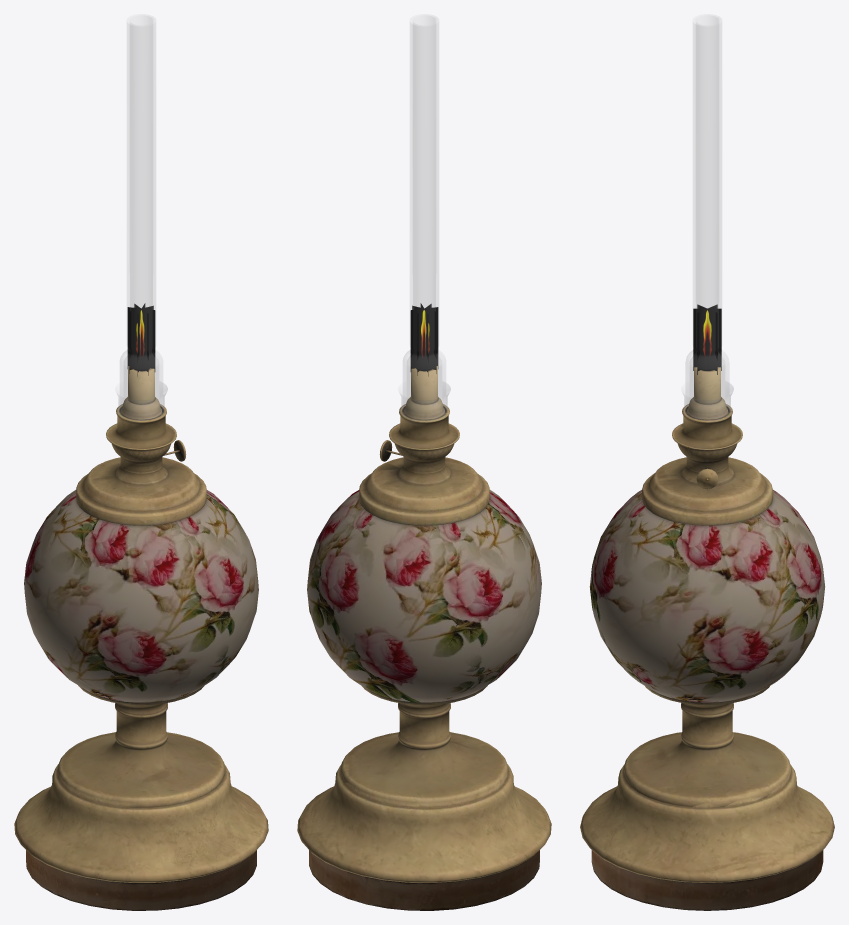
The model's file is ph-oil-lamp.glb.
The picture shows the model from 3 angles, left to right: view 1: azimuth 30°, elevation 25°; view 2: azimuth 150°, elevation 25°; view 3: azimuth 270°, elevation 25°; orthographic projection.
Parts seen in each view (by area): view 1: vintage_oil_lamp, vintage_oil_lamp_glass, vintage_oil_lamp_flame; view 2: vintage_oil_lamp, vintage_oil_lamp_glass, vintage_oil_lamp_flame; view 3: vintage_oil_lamp, vintage_oil_lamp_glass, vintage_oil_lamp_flame.
Boxes of the visible parts, x1,y1,x2,y2 form: vintage_oil_lamp: (14, 366, 268, 910); vintage_oil_lamp_glass: (115, 14, 167, 420); vintage_oil_lamp_flame: (127, 303, 155, 376); vintage_oil_lamp: (297, 366, 551, 910); vintage_oil_lamp_glass: (398, 14, 450, 420); vintage_oil_lamp_flame: (410, 303, 438, 376); vintage_oil_lamp: (580, 367, 834, 910); vintage_oil_lamp_glass: (681, 14, 733, 420); vintage_oil_lamp_flame: (693, 304, 721, 374).
Size of the model in its own units: 0.22 by 0.8016 by 0.22.
3 materials, 2 textured.
